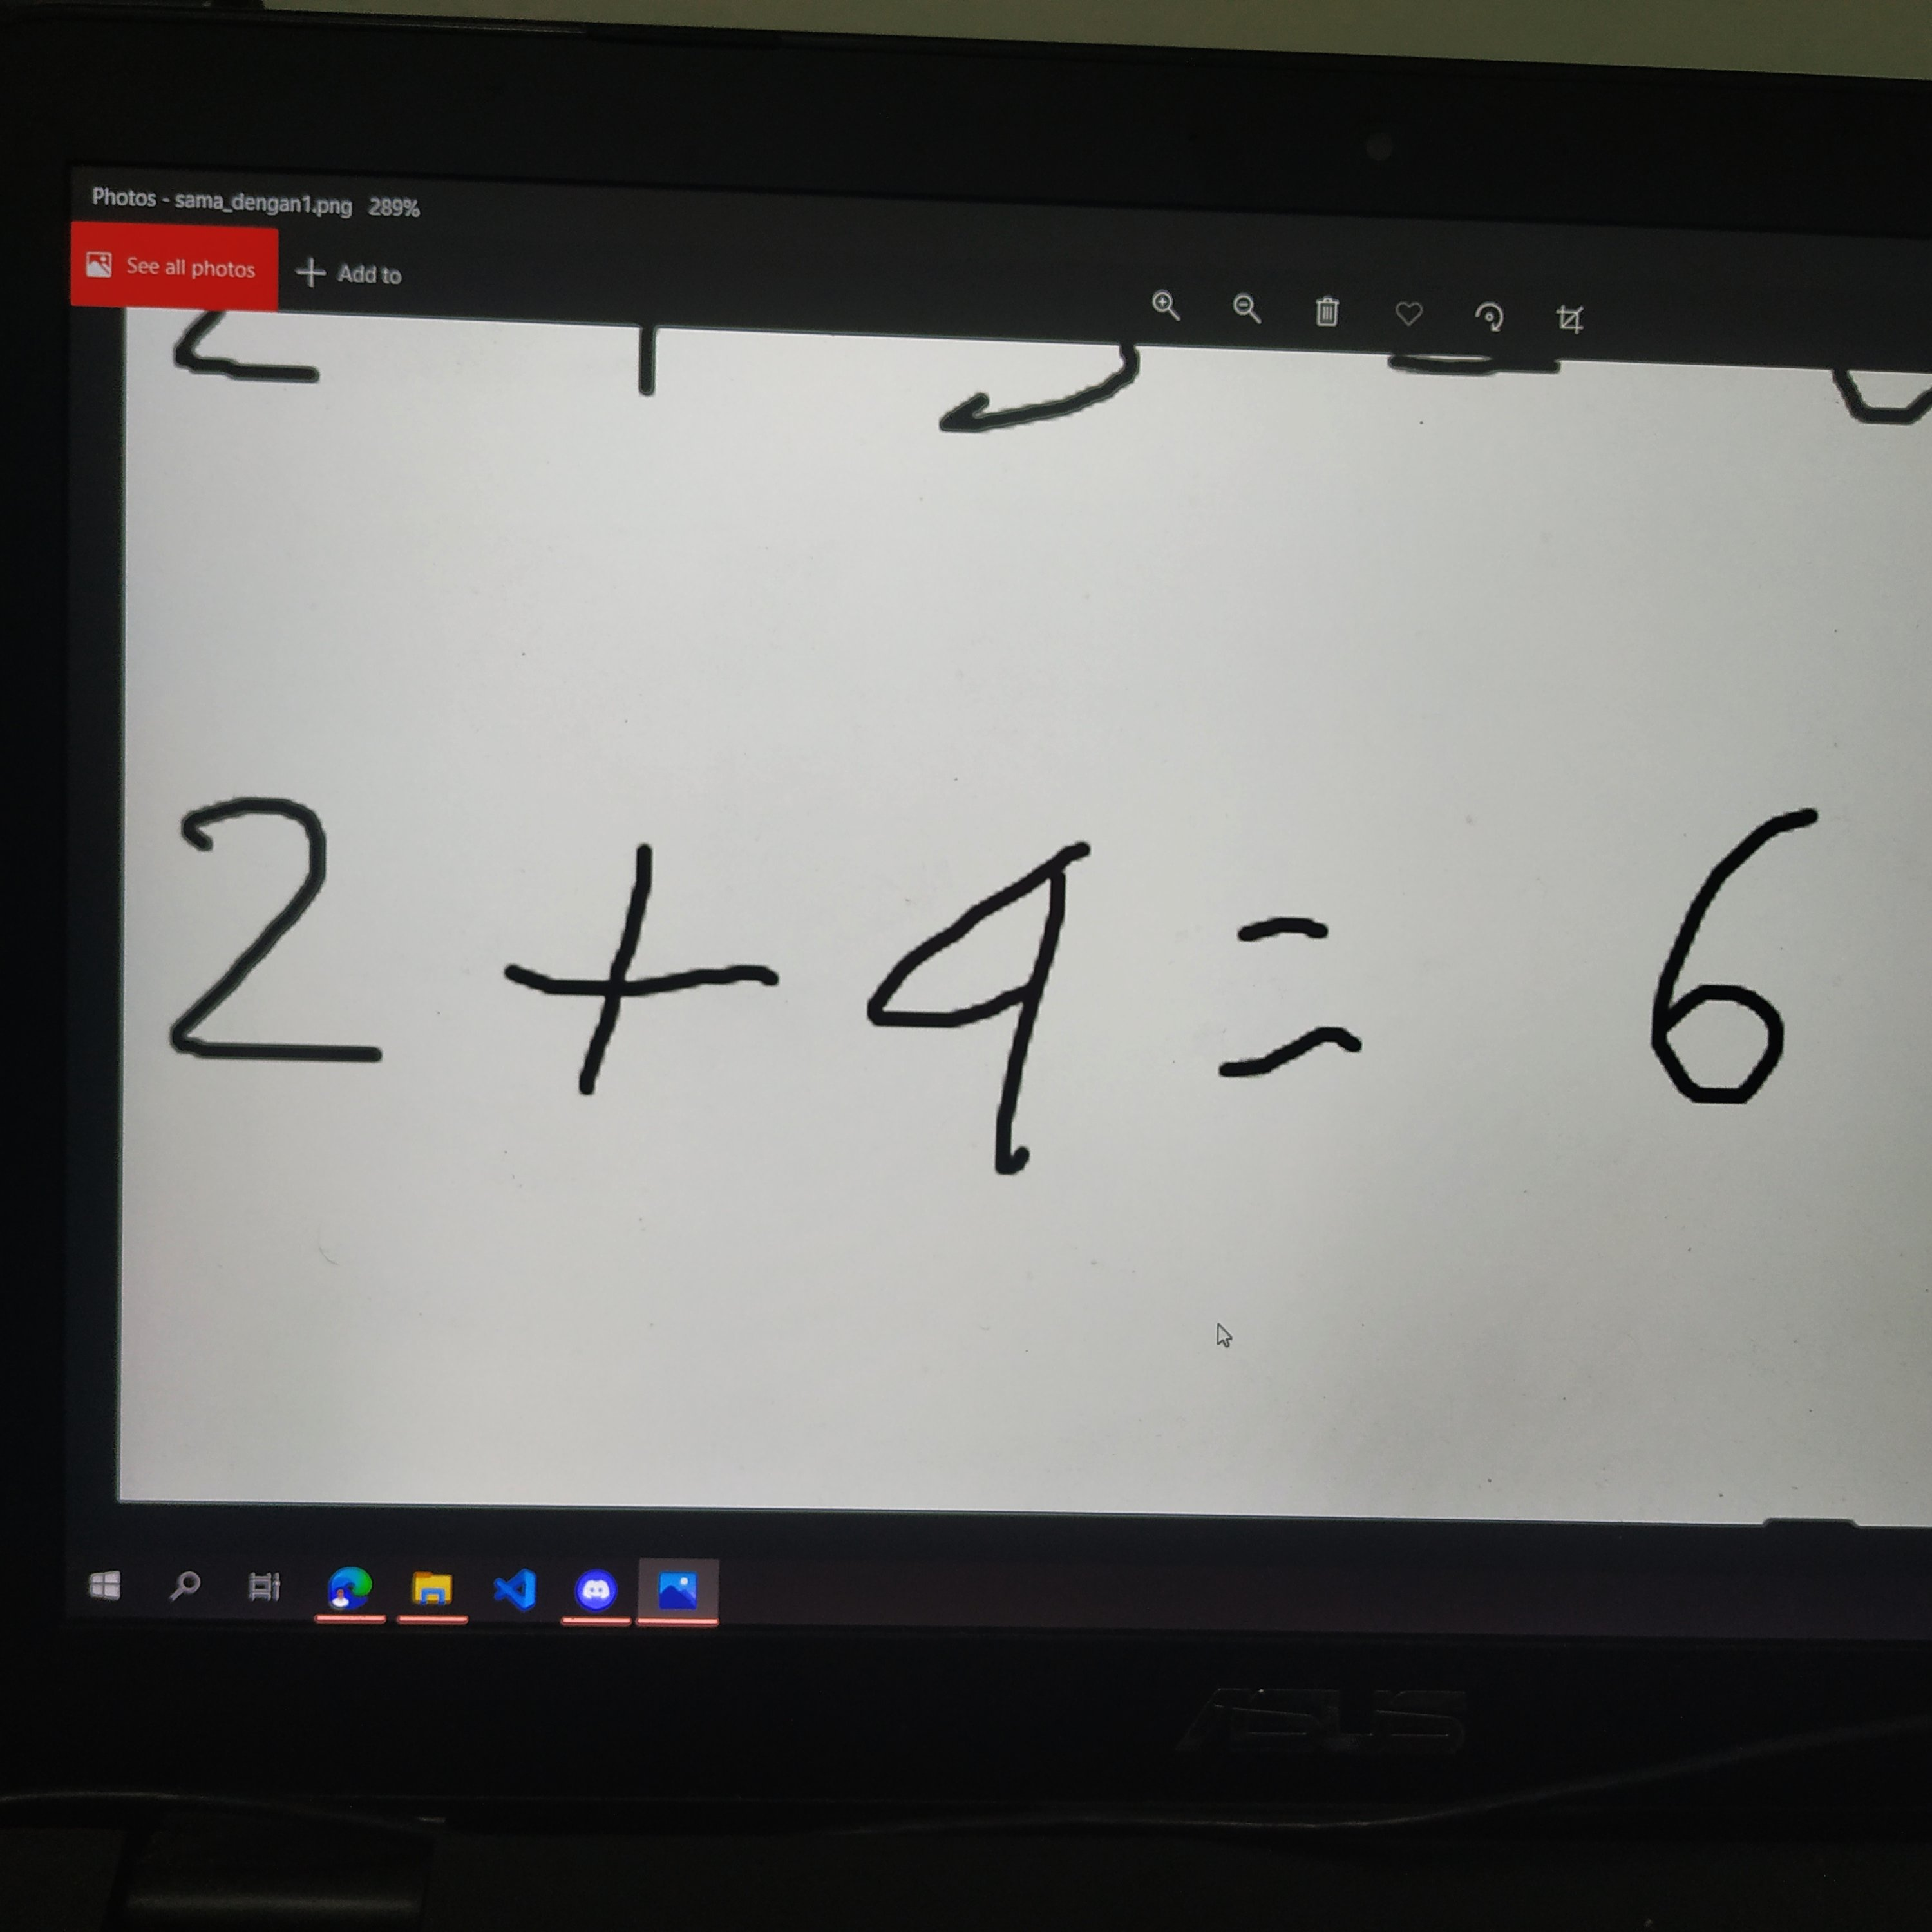equal: (1174, 885, 1401, 1109)
num2: (152, 787, 412, 1107)
num4: (852, 827, 1112, 1202)
num6: (1613, 785, 1851, 1132)
sum: (487, 833, 809, 1109)
